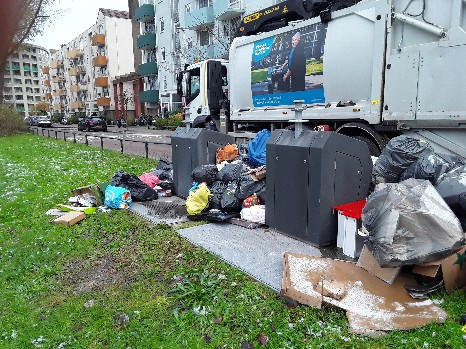Container: (263, 124, 333, 245), (170, 124, 205, 187)
Papier: (284, 262, 420, 333)
Rest: (362, 183, 459, 261), (382, 129, 451, 174), (339, 196, 376, 241), (218, 186, 257, 220), (91, 183, 133, 212), (242, 139, 277, 173), (117, 165, 148, 202), (74, 187, 109, 218), (238, 125, 263, 166), (212, 154, 238, 190), (148, 160, 175, 193), (188, 185, 225, 205), (192, 162, 219, 183), (235, 194, 243, 227)
Voertuig: (173, 0, 465, 120), (84, 109, 114, 138), (35, 116, 62, 135)
